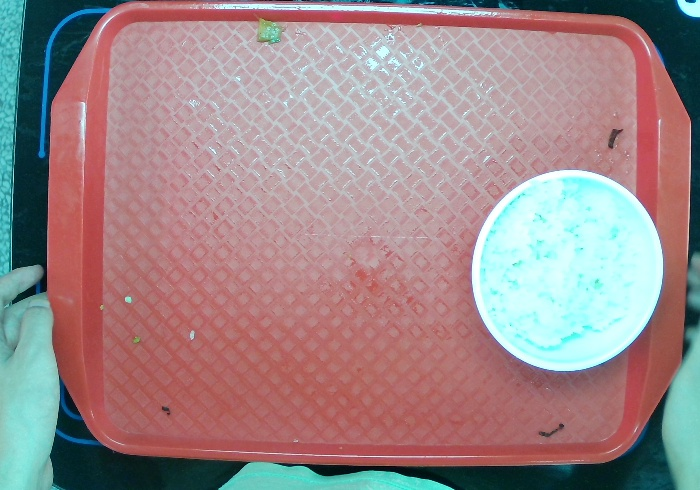YKMZ-Fan_Wan: (457, 159, 669, 382)
